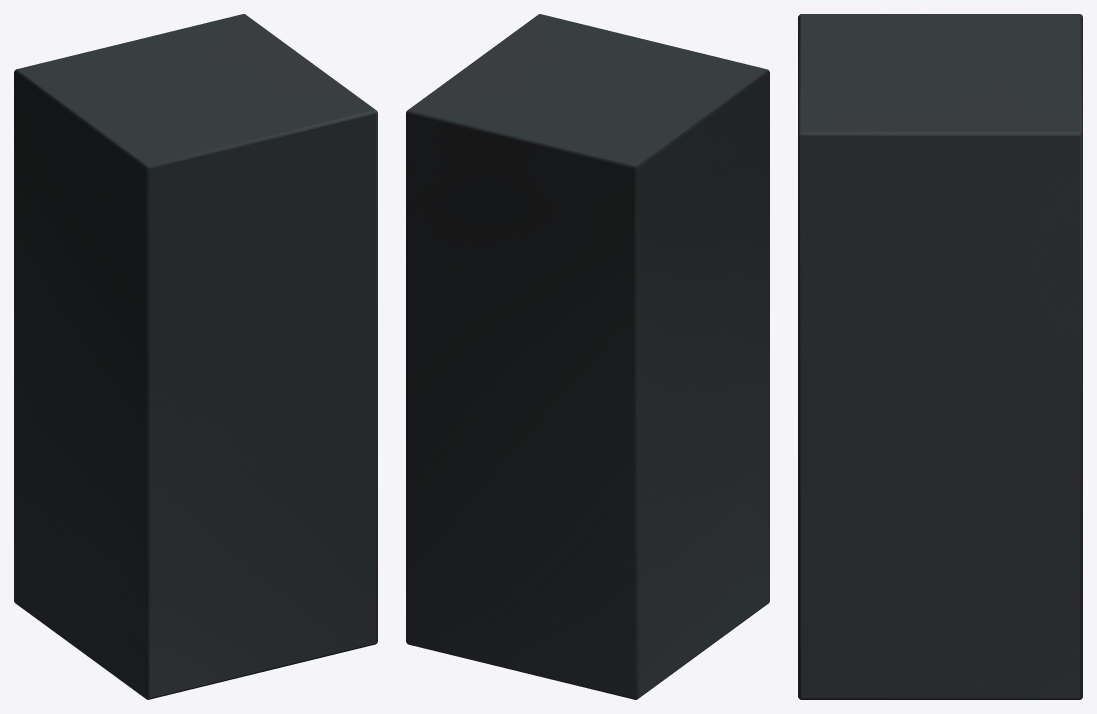
The model's file is tiago_110.glb.
3 views of the same model, side by side, from view 1: azimuth 30°, elevation 25°; view 2: azimuth 150°, elevation 25°; view 3: azimuth 270°, elevation 25° (orthographic). The views are drawn at different scales.
Parts seen in each view (by area): view 1: tiago_110_part1; view 2: tiago_110_part1; view 3: tiago_110_part1.
Boxes of the visible parts, x1,y1,x2,y2 form: tiago_110_part1: [14, 14, 377, 699]; tiago_110_part1: [406, 14, 769, 699]; tiago_110_part1: [798, 14, 1082, 699].
Bounding box in the file's own units: 0.4998 × 1.1 × 0.4998.
1 material, 1 textured.
